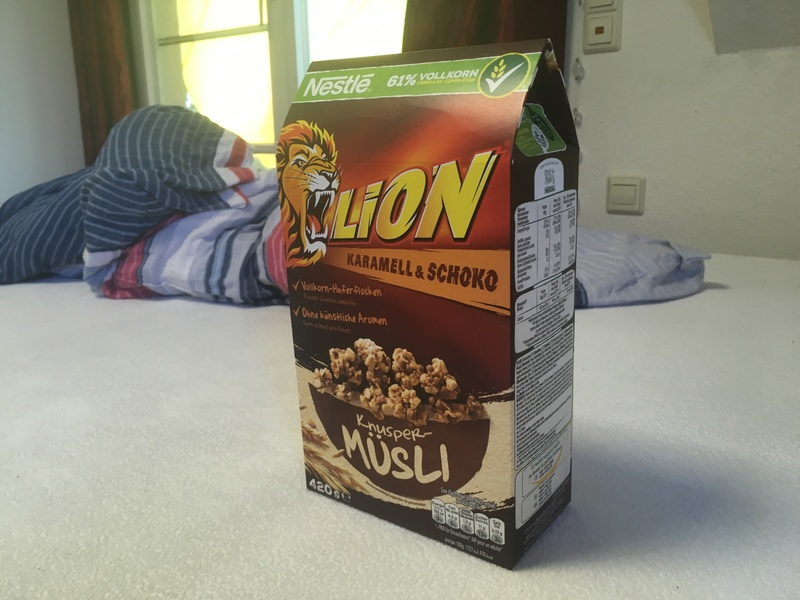cereals: (275, 37, 580, 566)
